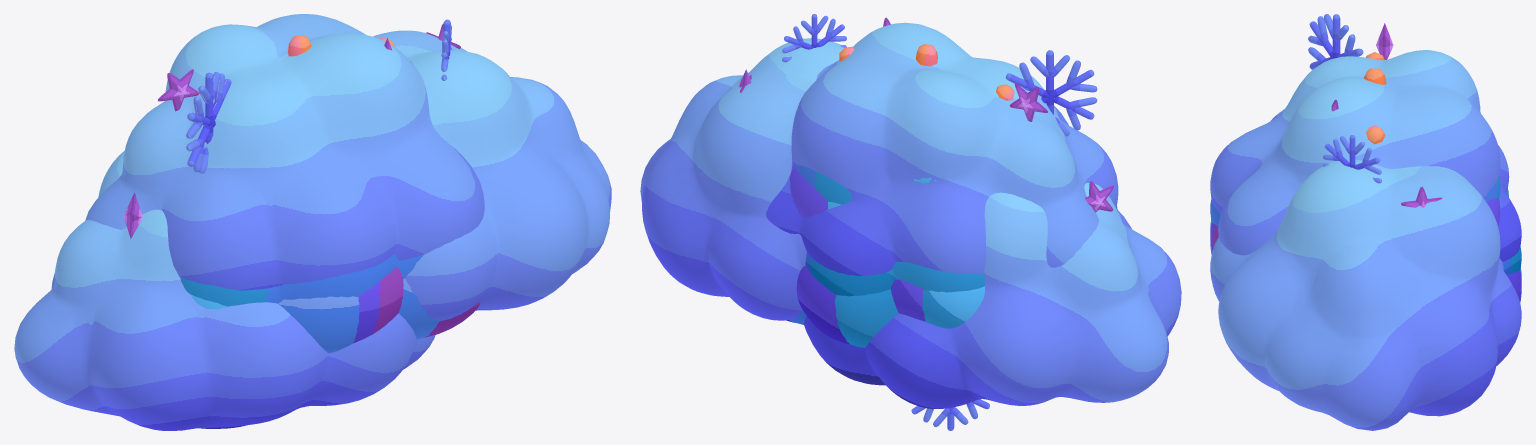
File: weather.glb
The picture shows the model from 3 angles, left to right: view 1: azimuth 30°, elevation 25°; view 2: azimuth 150°, elevation 25°; view 3: azimuth 270°, elevation 25°; orthographic projection. The views are drawn at different scales.
Parts seen in each view (by area): view 1: clouds, rain2, cloud, mist, rain, snow; view 2: clouds, rain2, mist, snow, cloud, rain, clear; view 3: clouds, rain2, snow, mist, rain, clear.
Part boxes in pixels (box(x1,y1,x2,y2)): clouds: box(14, 30, 611, 430); rain2: box(85, 14, 484, 290); cloud: box(190, 278, 439, 353); mist: box(123, 24, 480, 343); rain: box(180, 254, 423, 306); snow: box(186, 19, 451, 173); clouds: box(640, 38, 1181, 408); rain2: box(766, 22, 1118, 276); mist: box(738, 17, 1113, 343); snow: box(782, 14, 1097, 430); cloud: box(789, 201, 984, 347); rain: box(796, 165, 1117, 296); clear: box(839, 44, 1014, 100); clouds: box(1210, 159, 1521, 430); rain2: box(1210, 50, 1521, 261); snow: box(1308, 14, 1381, 183); mist: box(1210, 23, 1521, 298); rain: box(1210, 176, 1521, 274); clear: box(1363, 52, 1386, 144).
Bounding box in the file's own units: 0.5638 × 0.374 × 0.2971.
3 materials, 3 textured.
